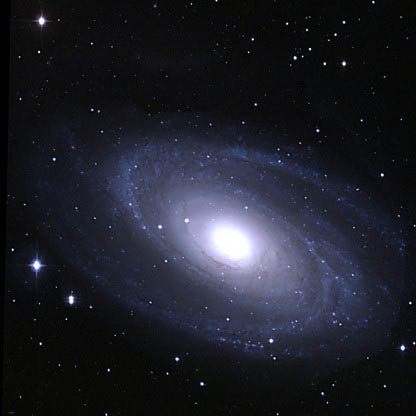Messier 81: (20, 115, 403, 369)
